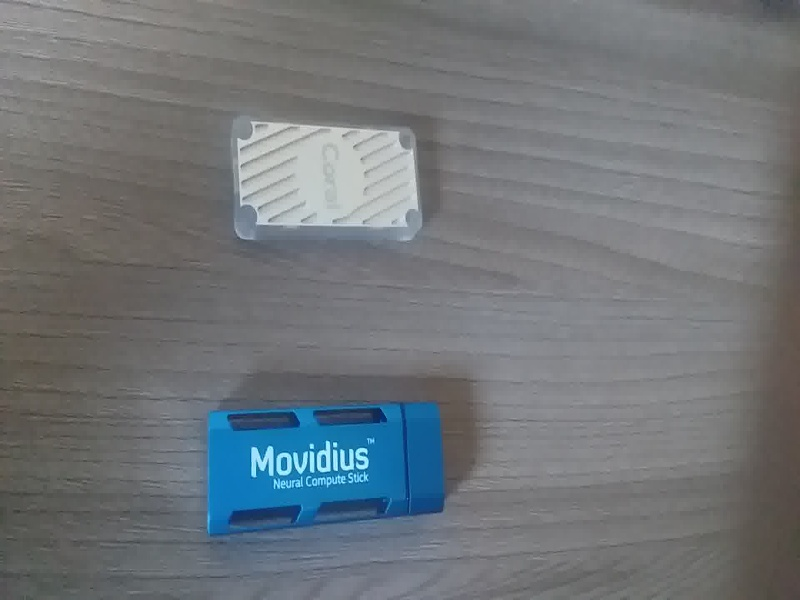coral: (221, 104, 438, 255)
movidius: (188, 398, 450, 540)
